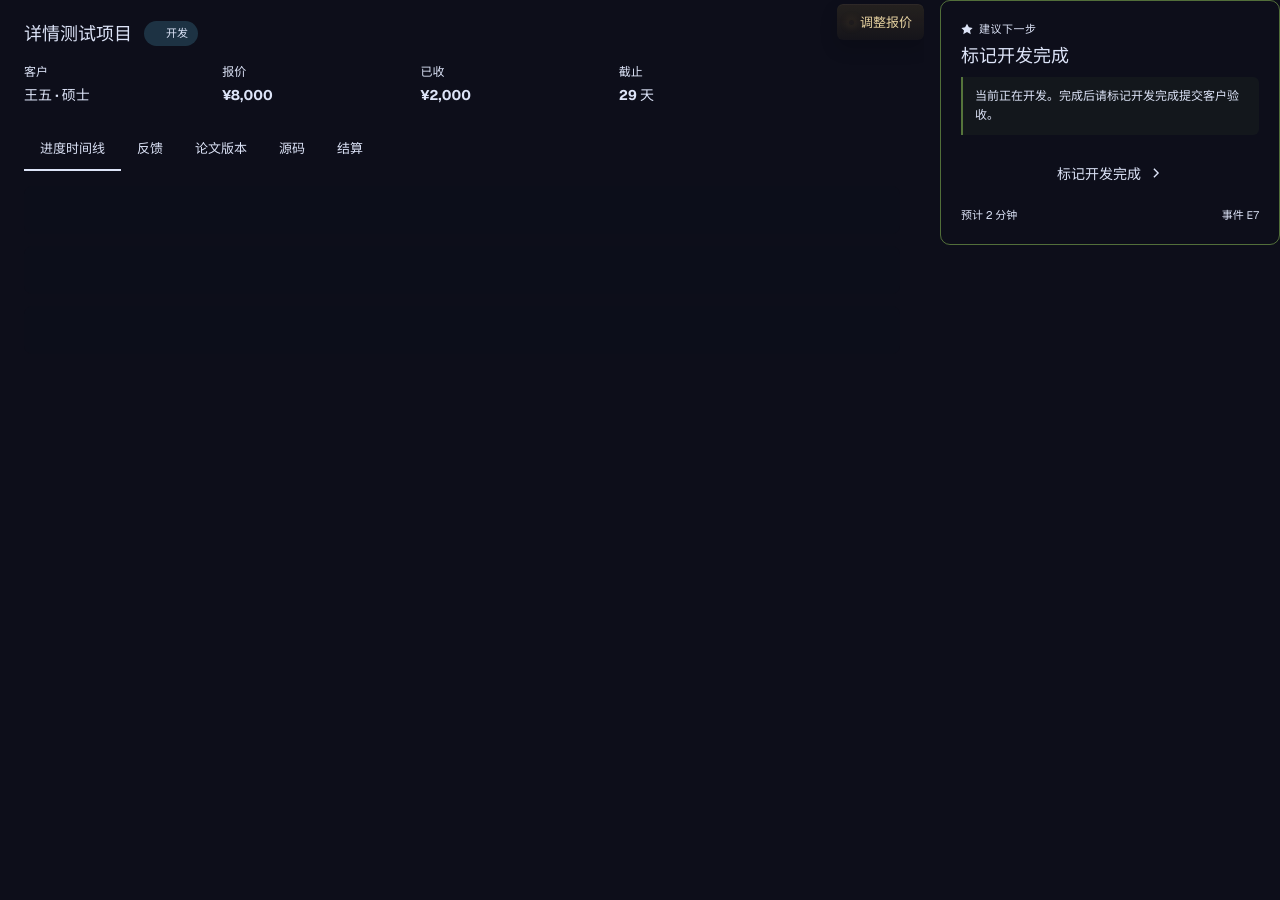
Test case: ProjectDetailPage › 点击"+ 新增收款"→ PaymentDialog 出现
Click the tab "结算" at [350, 148], box [321,126,379,171]
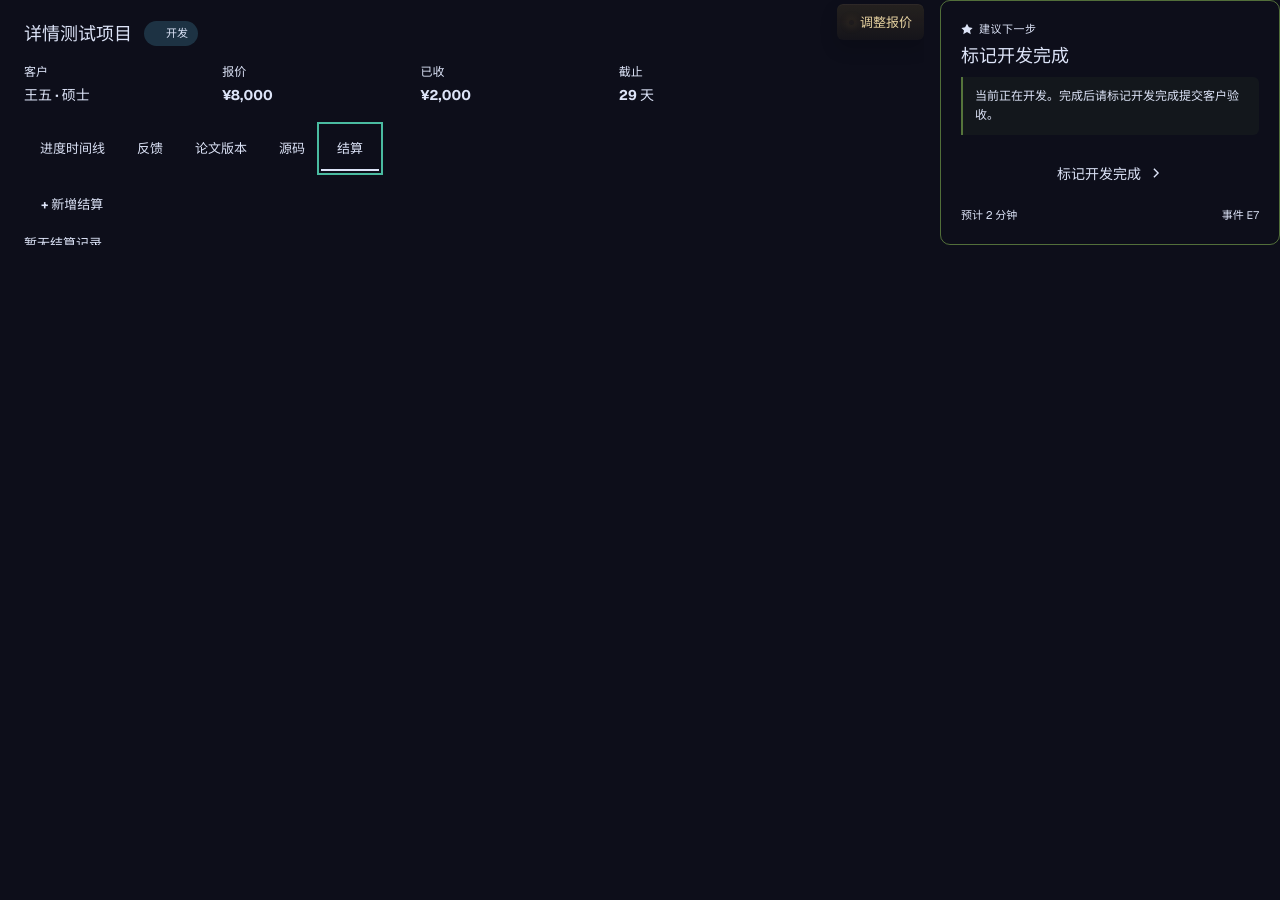
Click the button "+ 新增结算" at [72, 204], box [24,186,120,222]
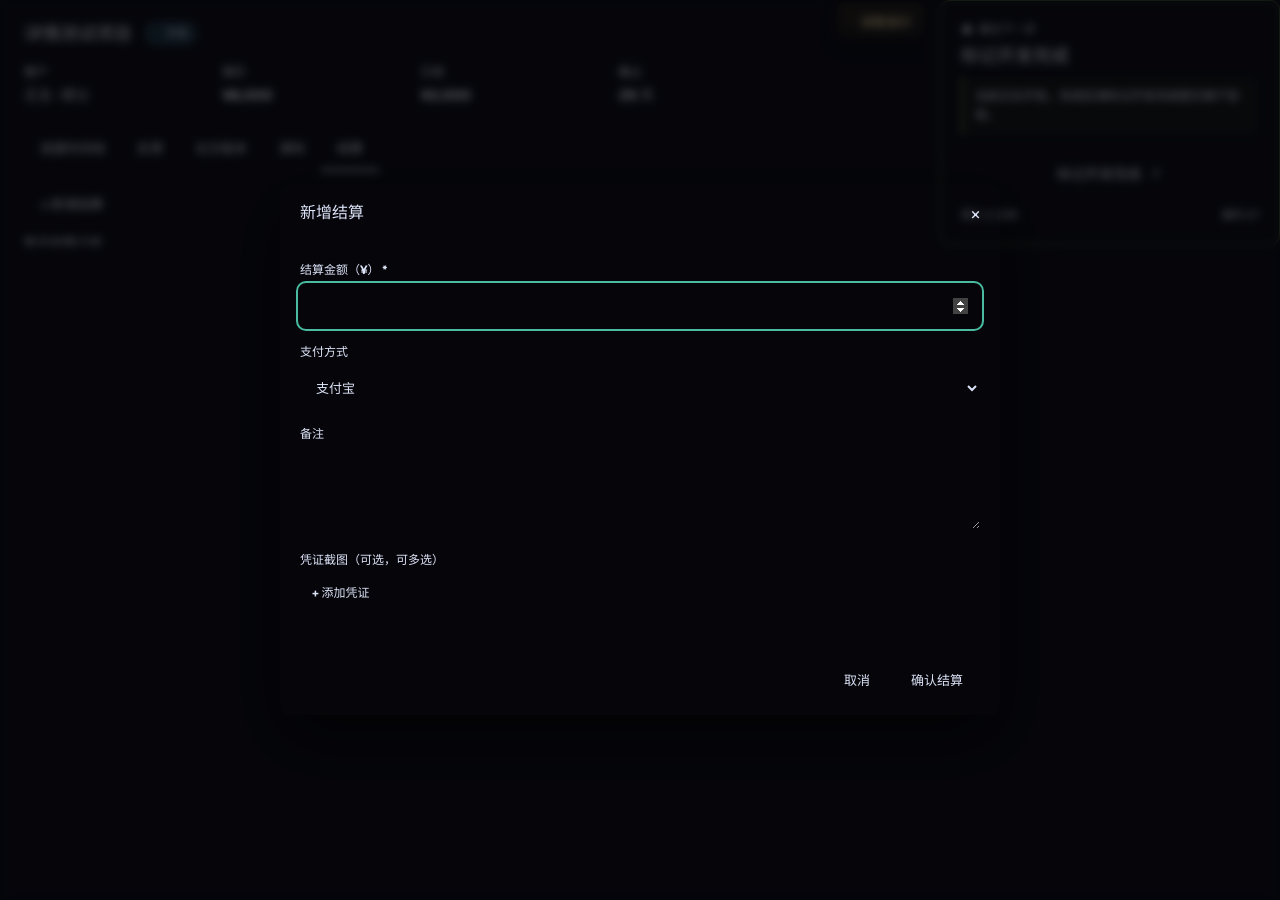
Expected: the dialog with test id "payment-dialog" is shown, [280,185,1000,715]
